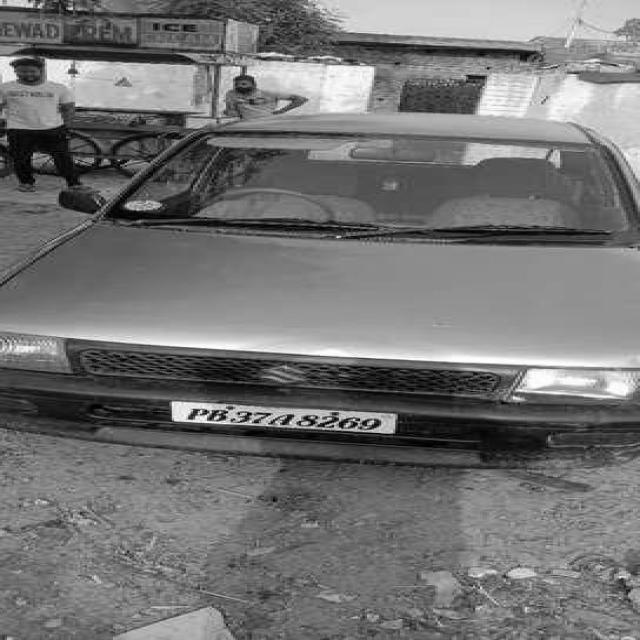car: (0, 105, 640, 462)
license-plate: (162, 398, 402, 437)
